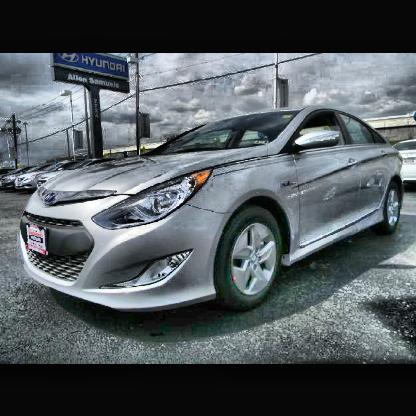Hyundai Sonata Hybrid Sedan 2012: (21, 107, 405, 313)
